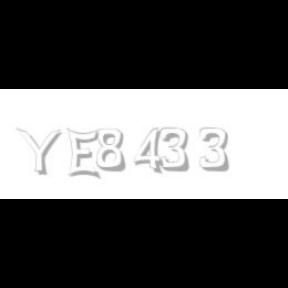3: (160, 128, 190, 172), (200, 128, 230, 172)
4: (132, 128, 163, 174)
8: (97, 128, 126, 172)
E: (66, 128, 100, 180)
Y: (16, 128, 62, 176)
